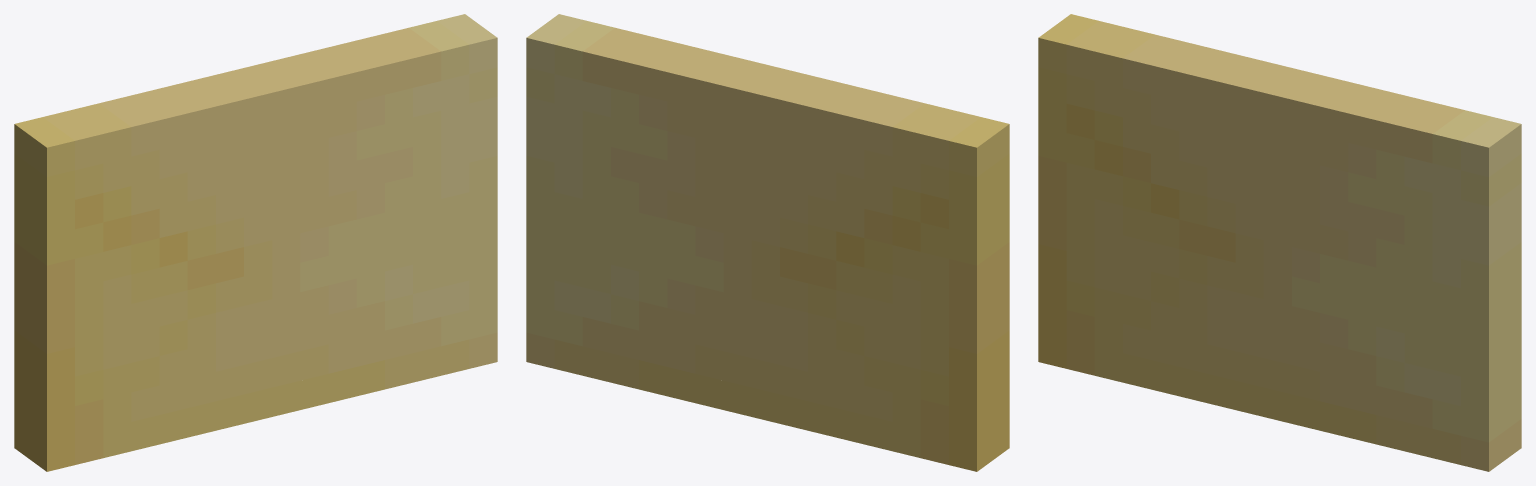
Rendered from envelope-yellow.glb.
3 renders of one model, left to right at view 1: azimuth 30°, elevation 25°; view 2: azimuth 150°, elevation 25°; view 3: azimuth 330°, elevation 25°, orthographic.
Parts seen in each view (by area): view 1: prop; view 2: prop; view 3: prop.
Part boxes in pixels (<box>): prop: <box>14,14,497,471</box>; prop: <box>526,14,1009,471</box>; prop: <box>1038,14,1521,471</box>.
Bounding box in the file's own units: 16 × 11 × 2.
